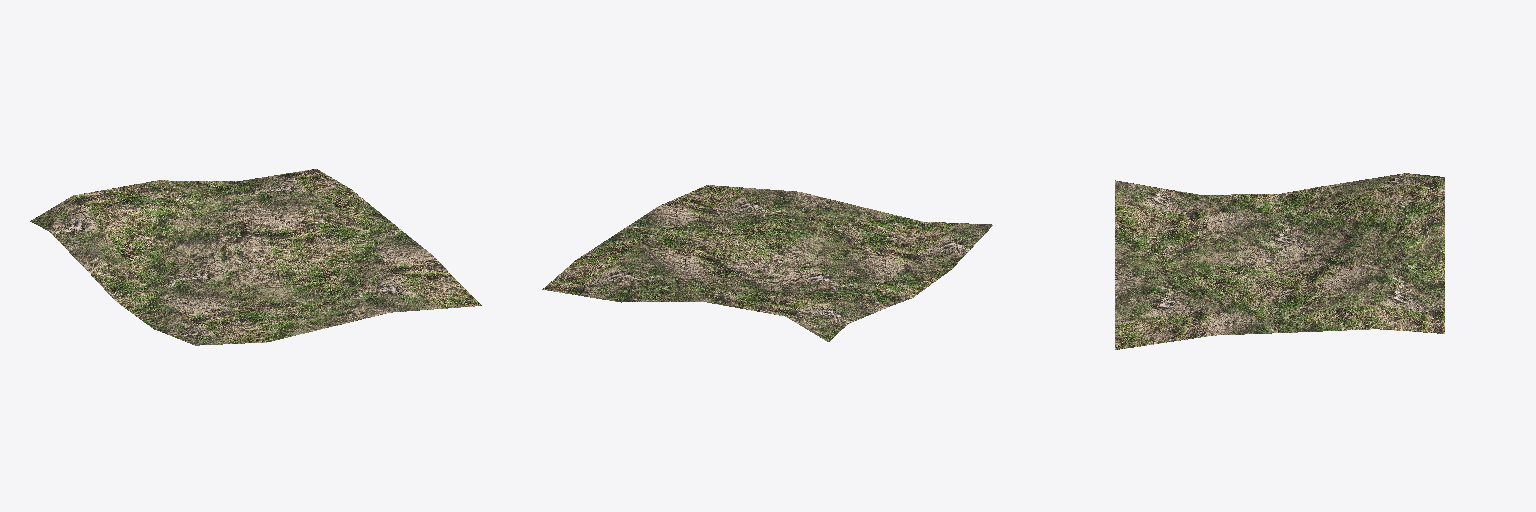
3 views of the same model, side by side, from view 1: azimuth 30°, elevation 25°; view 2: azimuth 150°, elevation 25°; view 3: azimuth 270°, elevation 25° (orthographic).
Parts seen in each view (by area): view 1: Ground; view 2: Ground; view 3: Ground.
Part boxes in pixels (left/top/right/bottom): Ground: left=30, top=169, right=481, bottom=345; Ground: left=542, top=185, right=992, bottom=341; Ground: left=1115, top=173, right=1444, bottom=349.
Bounding box in the file's own units: 38.17 × 6.21 × 38.17.
1 materials, 1 textured.